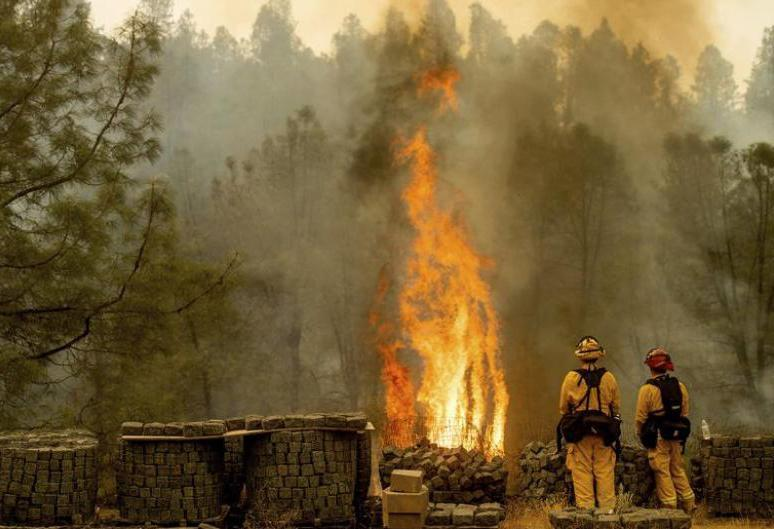Fire: (361, 116, 518, 465)
